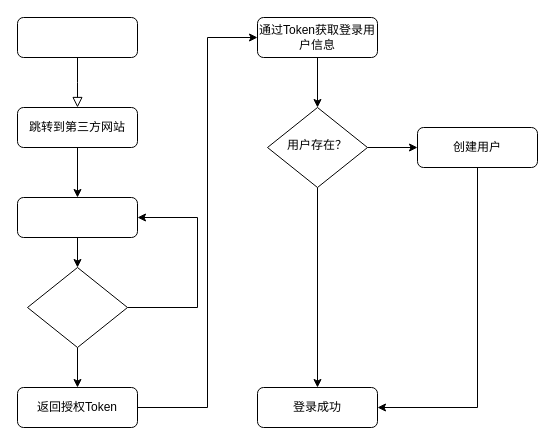
The diagram is 555 pixels wide and 445 high, and some of its shapes have lost their labels. The shapes that lost their labels are listed below. From the top down, each one's box as (x1, y1, x2, y2) in pixels, then its label:
(16, 16, 138, 58): OAuth登录
(16, 196, 138, 238): 输入用户名、密码
(26, 266, 128, 348): 用户名、密码匹配？
